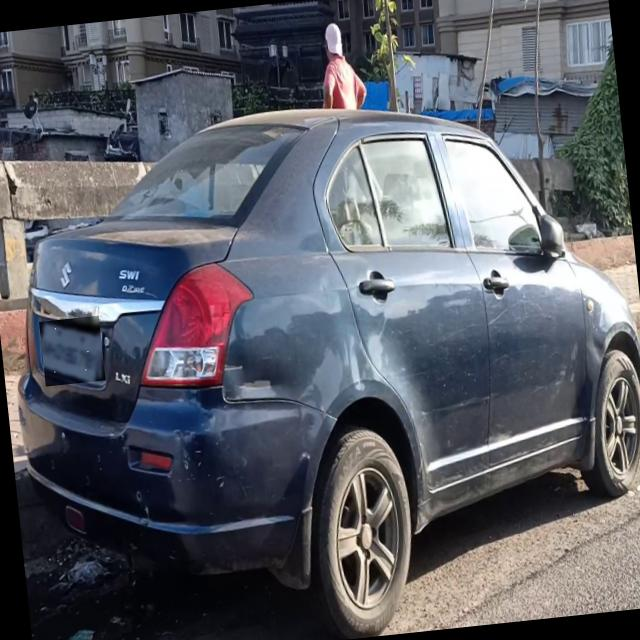Plate: (40, 316, 106, 387)
